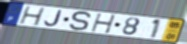1: (150, 19, 164, 39)
8: (121, 17, 141, 36)
H: (90, 13, 118, 35), (17, 6, 46, 27)
J: (43, 9, 64, 27)
S: (67, 11, 93, 32)
